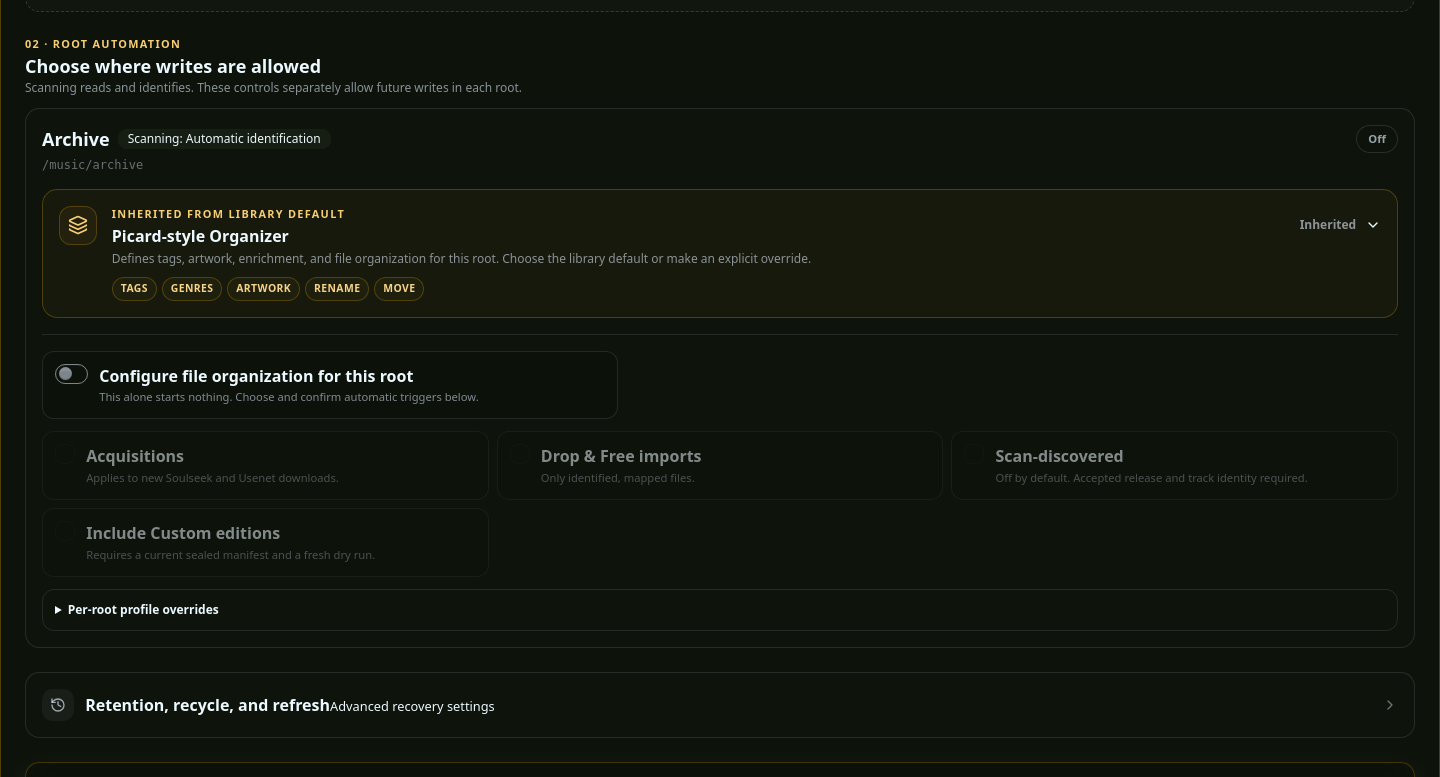
Test: SettingsLibraryManagement › rechecks a ready dry run before accepting it for activation
(page scrolled)
Click the checkbox labelled "Configure file organization".
click(72, 374)  # box 55,364 -> 88,384
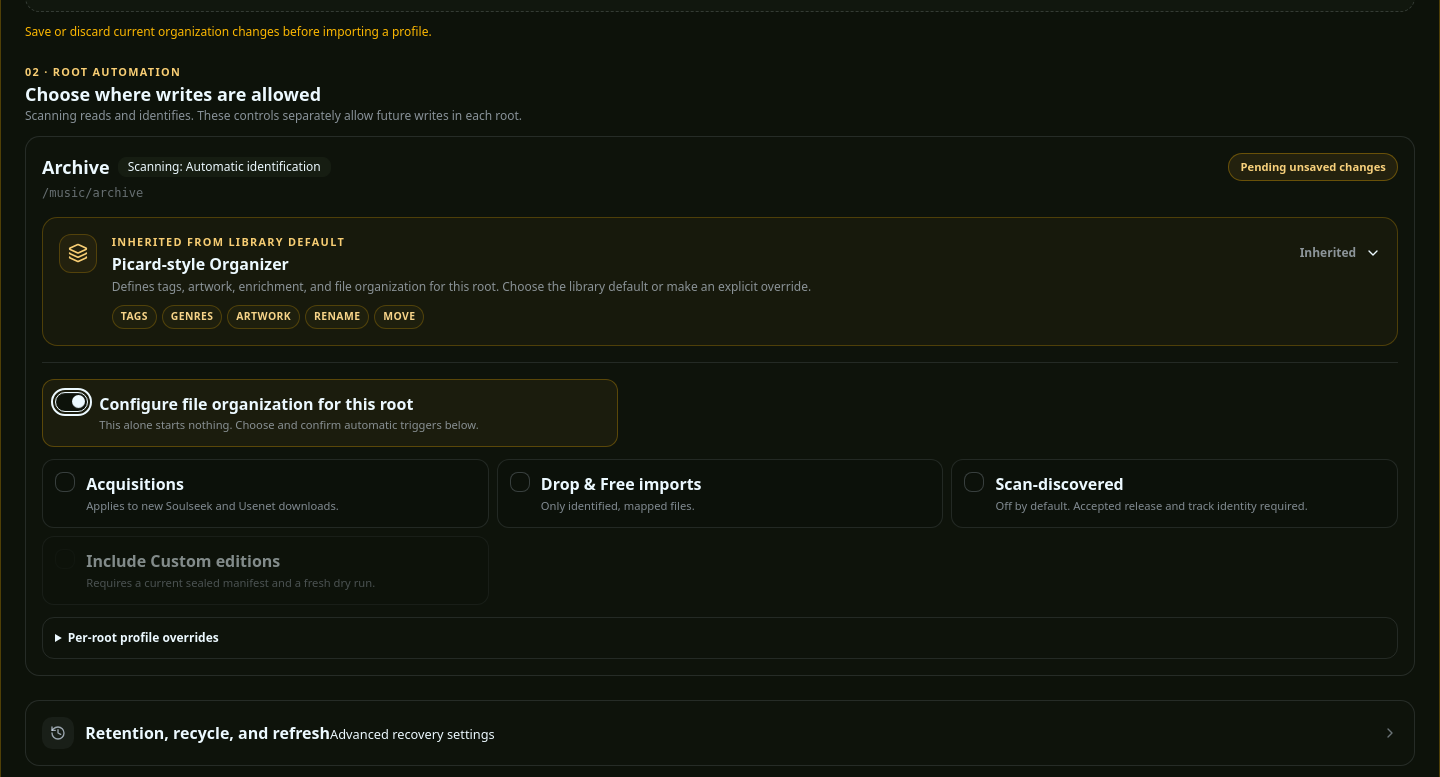
Click the checkbox labelled "Acquisitions Applies to new Soulseek and Usenet downloads.".
click(65, 482)  # box 55,472 -> 75,492
(page scrolled)
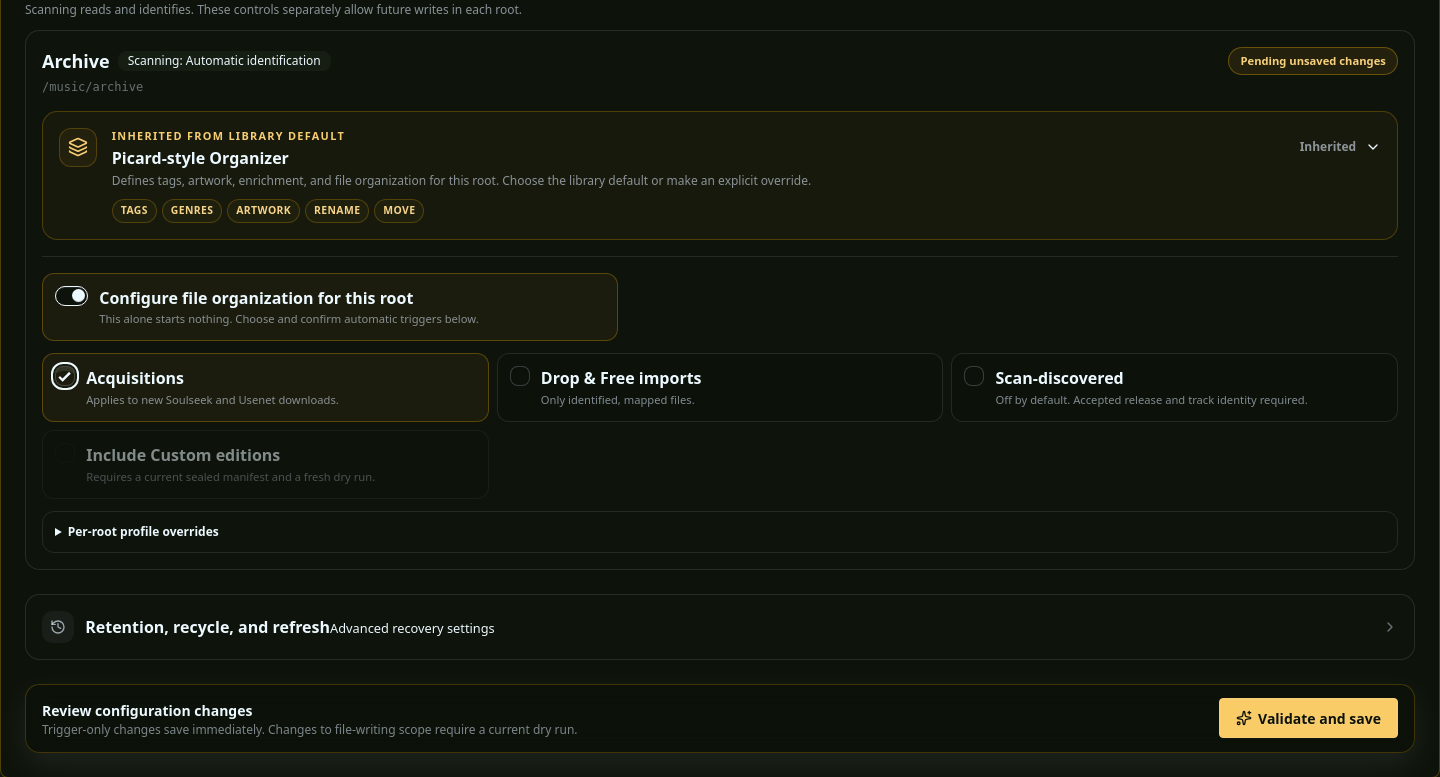
Click the button "Validate and save".
click(1309, 718)  # box 1219,698 -> 1398,738
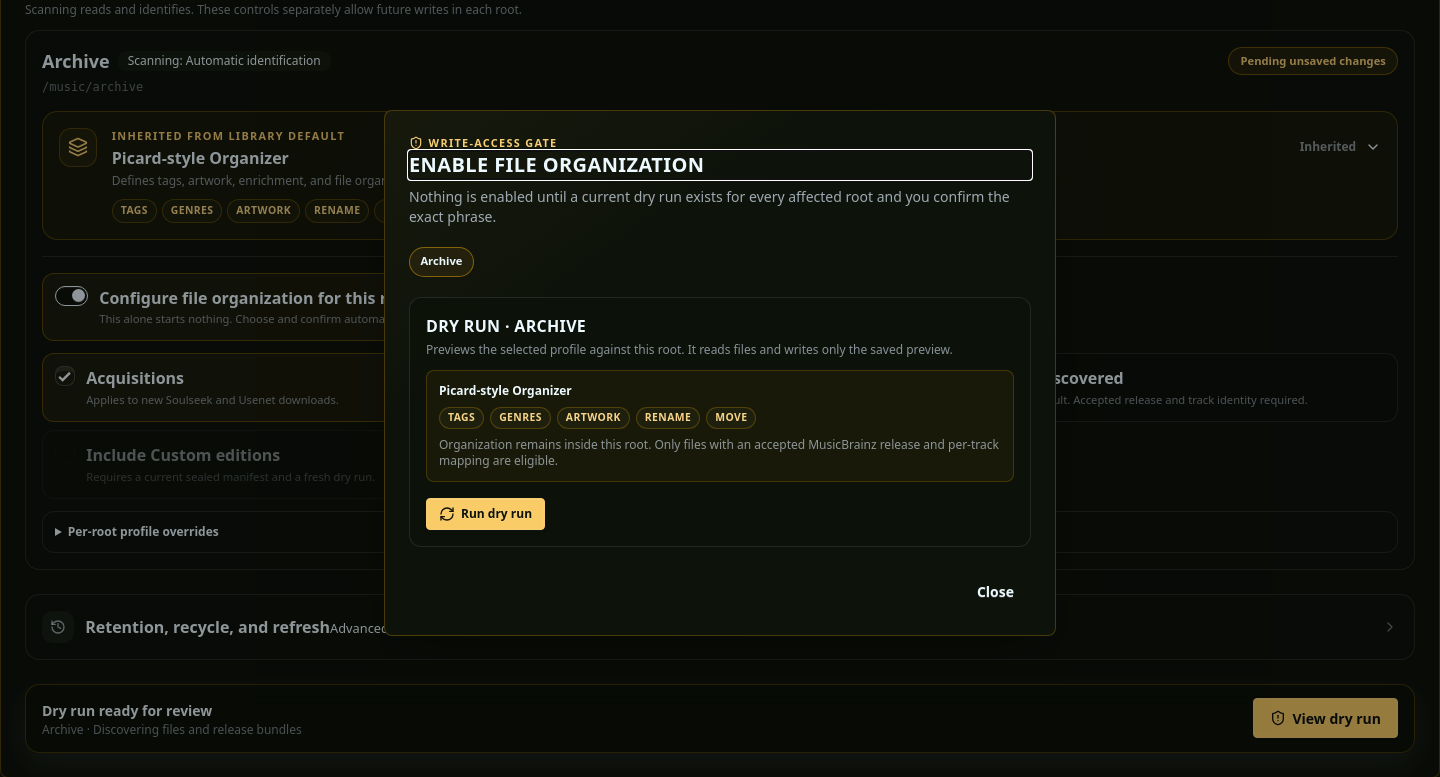
Click the button "Run dry run".
click(486, 514)  # box 426,498 -> 545,530
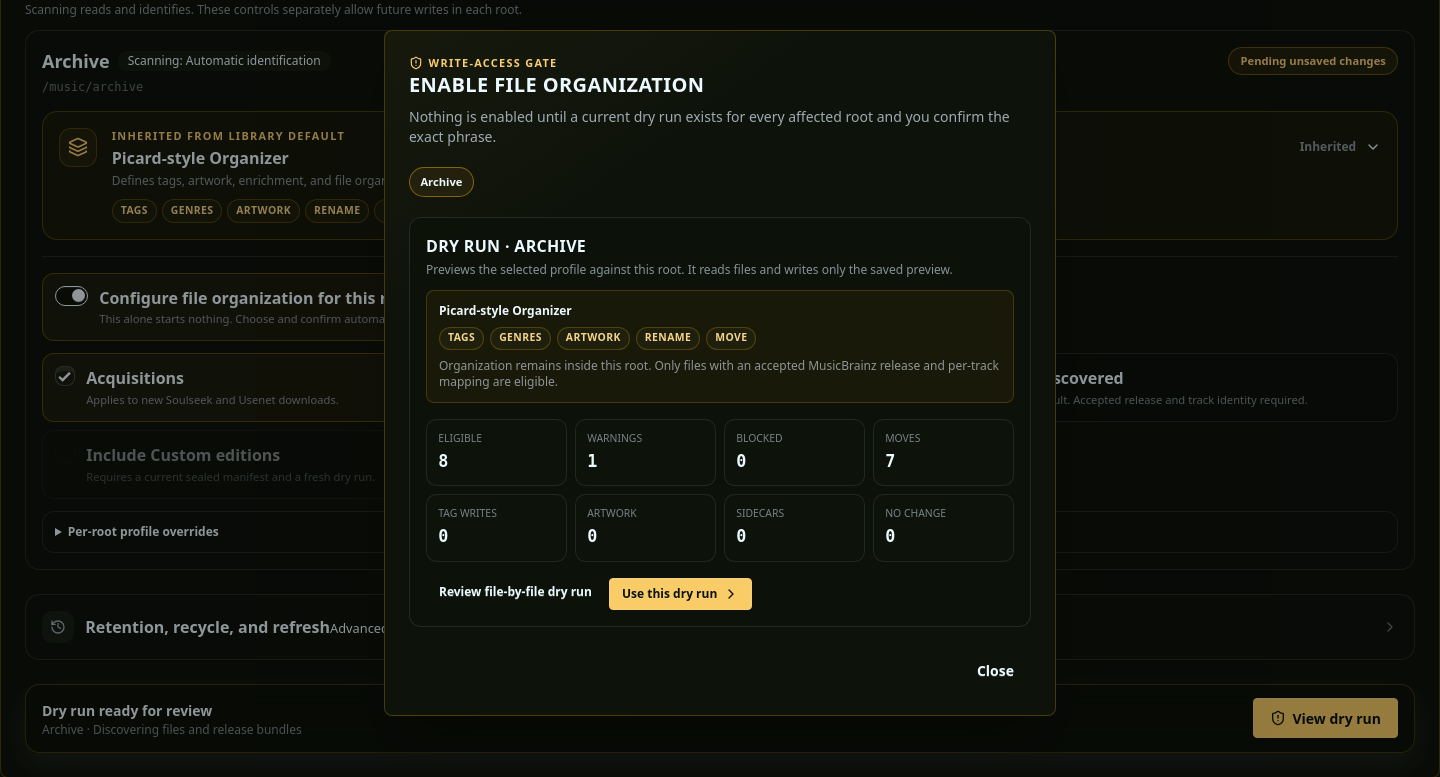
Click the button "Use this dry run".
click(681, 594)  # box 609,578 -> 752,610
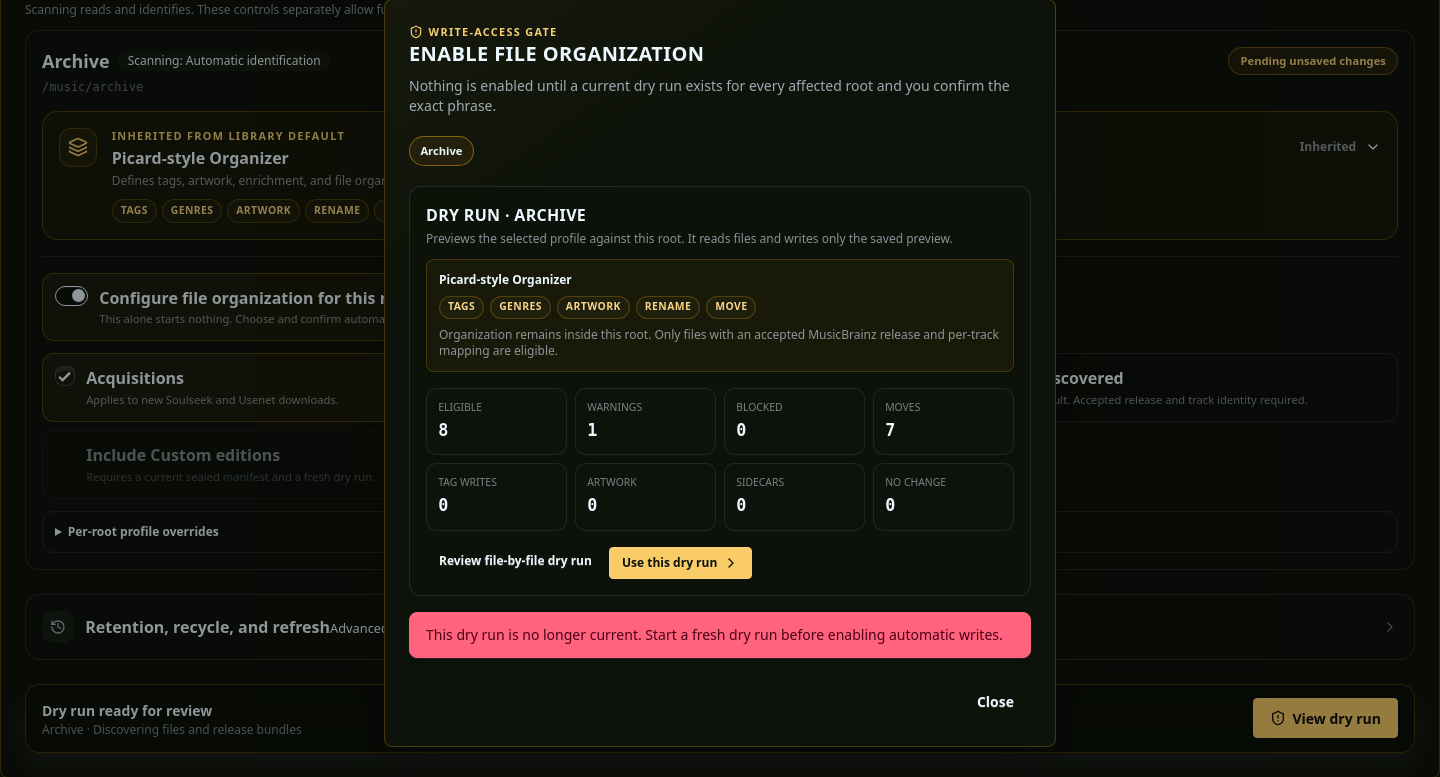
Expected: the message shows "This dry run is no longer current.", 426,625 -> 1003,644
